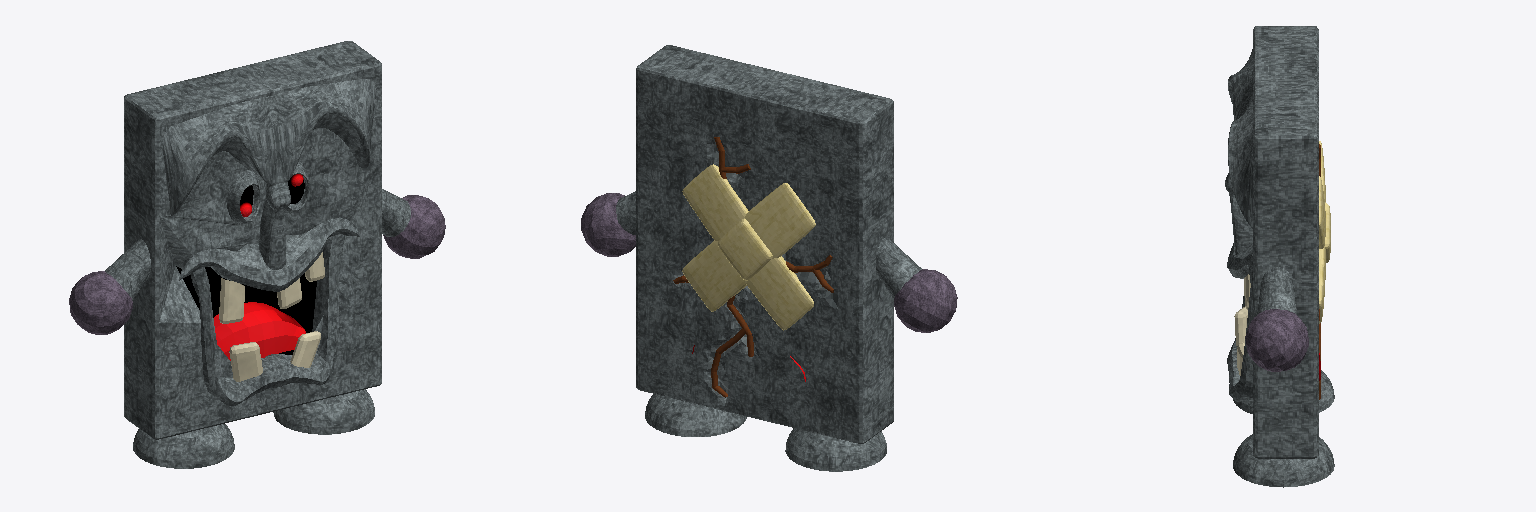
3 renders of one model, left to right at view 1: azimuth 30°, elevation 25°; view 2: azimuth 150°, elevation 25°; view 3: azimuth 270°, elevation 25°, orthographic.
Parts seen in each view (by area): view 1: Cube.005_Cube.007, Sphere.004, Sphere.001, Sphere.003, Sphere.002; view 2: Cube.005_Cube.007, Sphere.004, Sphere.003, Sphere.001, Sphere.002; view 3: Cube.005_Cube.007, Sphere.001, Sphere.002, Sphere.003.
Boxes of the visible parts, box(x1,y1,x2,y2) form: Cube.005_Cube.007: box(124, 41, 381, 439); Sphere.004: box(69, 239, 165, 334); Sphere.001: box(382, 189, 445, 258); Sphere.003: box(133, 424, 234, 468); Sphere.002: box(273, 389, 374, 434); Cube.005_Cube.007: box(636, 45, 893, 443); Sphere.004: box(876, 237, 957, 332); Sphere.003: box(785, 428, 886, 471); Sphere.001: box(581, 191, 635, 256); Sphere.002: box(645, 394, 746, 436); Cube.005_Cube.007: box(1225, 26, 1330, 458); Sphere.001: box(1245, 267, 1308, 371); Sphere.002: box(1233, 434, 1334, 487); Sphere.003: box(1233, 370, 1334, 413).
Size of the model in its own units: 17.79 by 16.23 by 4.59.
Materials: 1 (1 with a texture image).